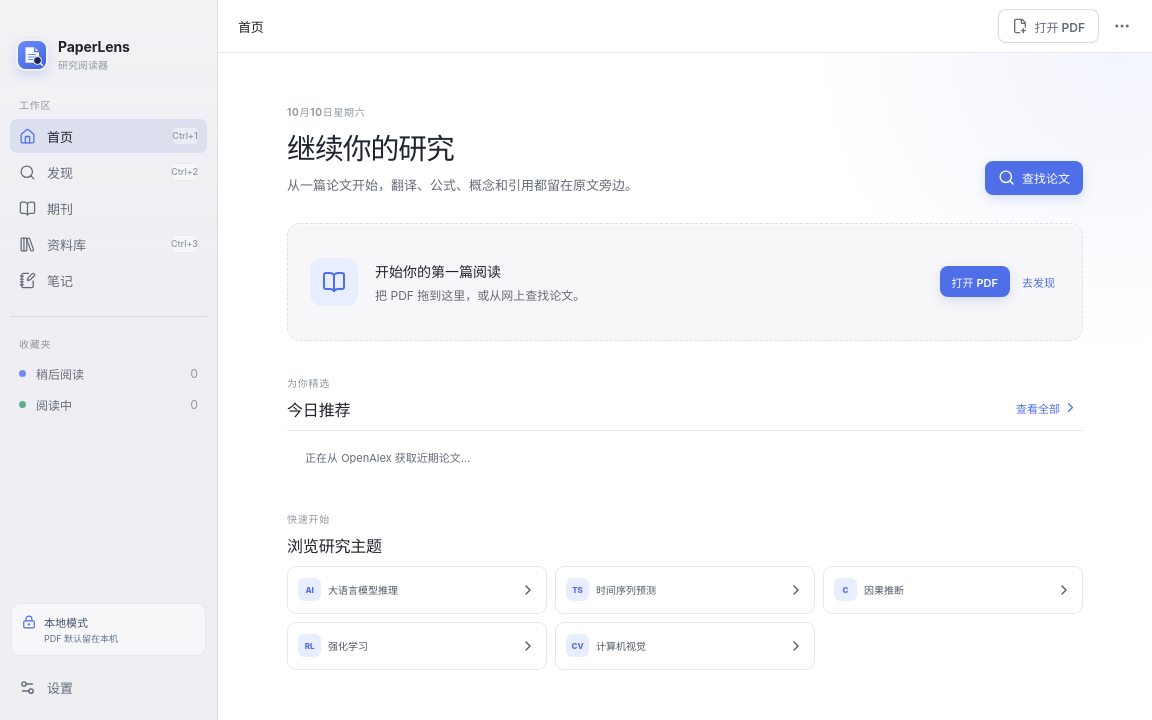
responsive paper search › allows a new query while searching, aborts the old request, and ignores stale progress
Click the button "发现 Ctrl+2" at (108, 172), box [10,155,207,189]
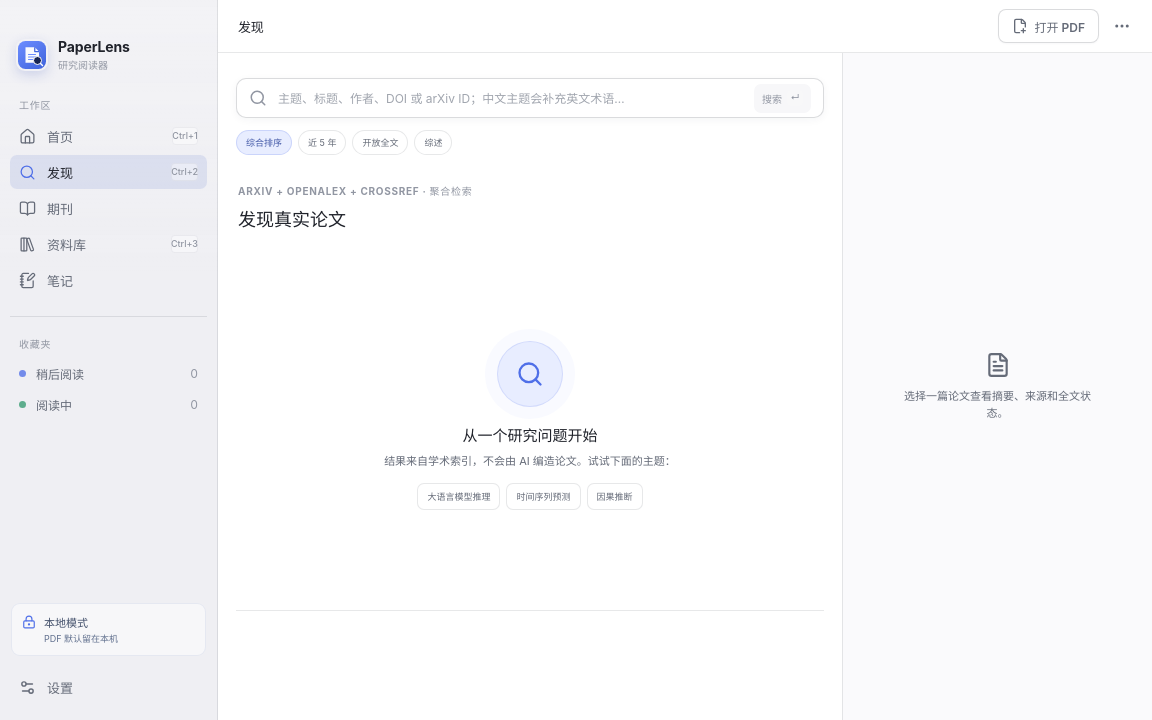
Type "old query" into the field named "搜索论文" at (510, 98), box [276,79,745,117]
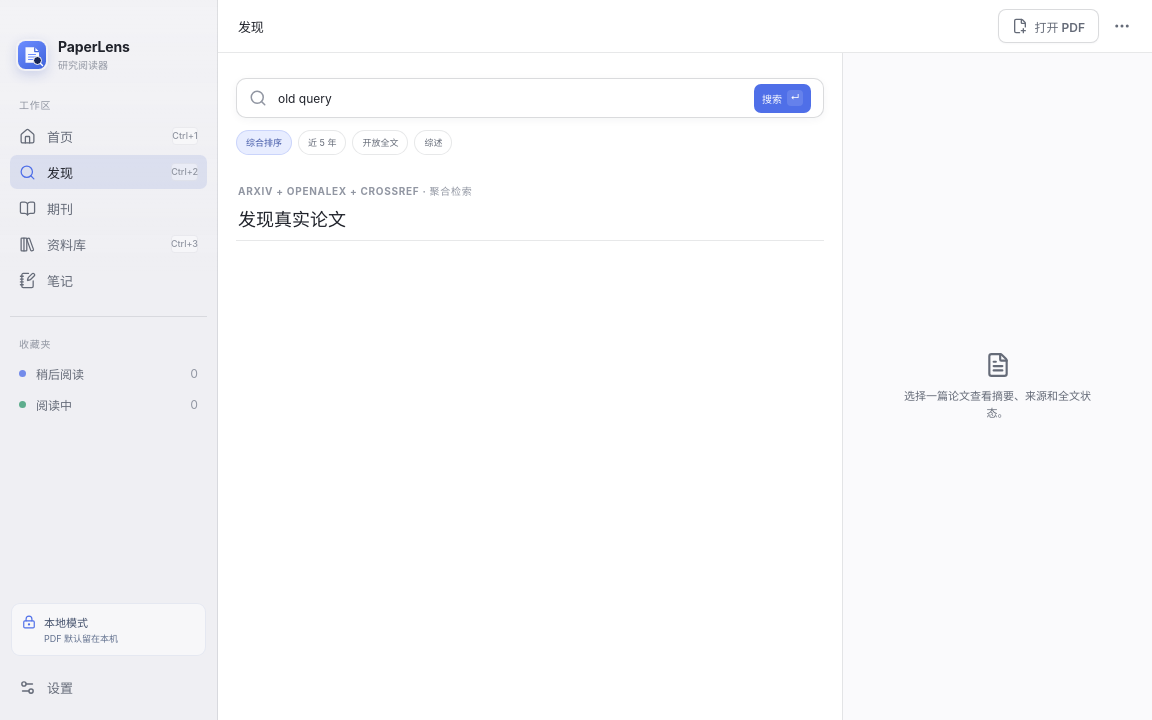
Click the button "搜索 ↵" at (782, 98), box [754,84,811,112]
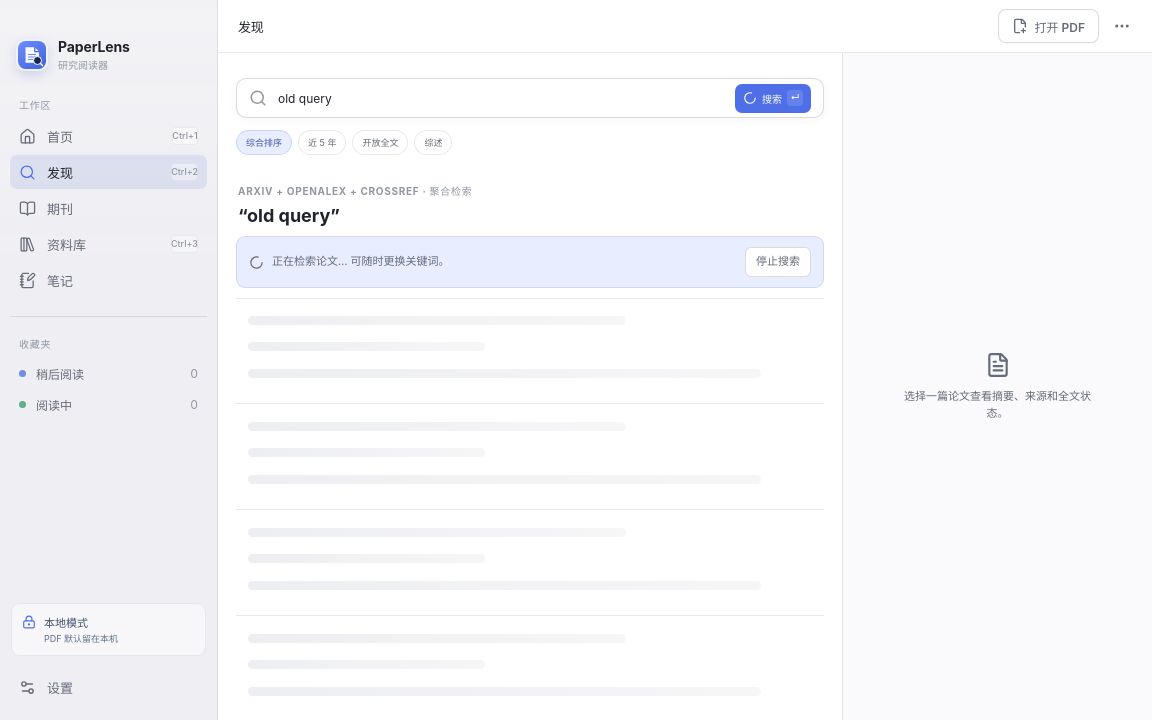
Replace the text in the field named "搜索论文" with "new query" at (501, 98), box [276,79,726,117]
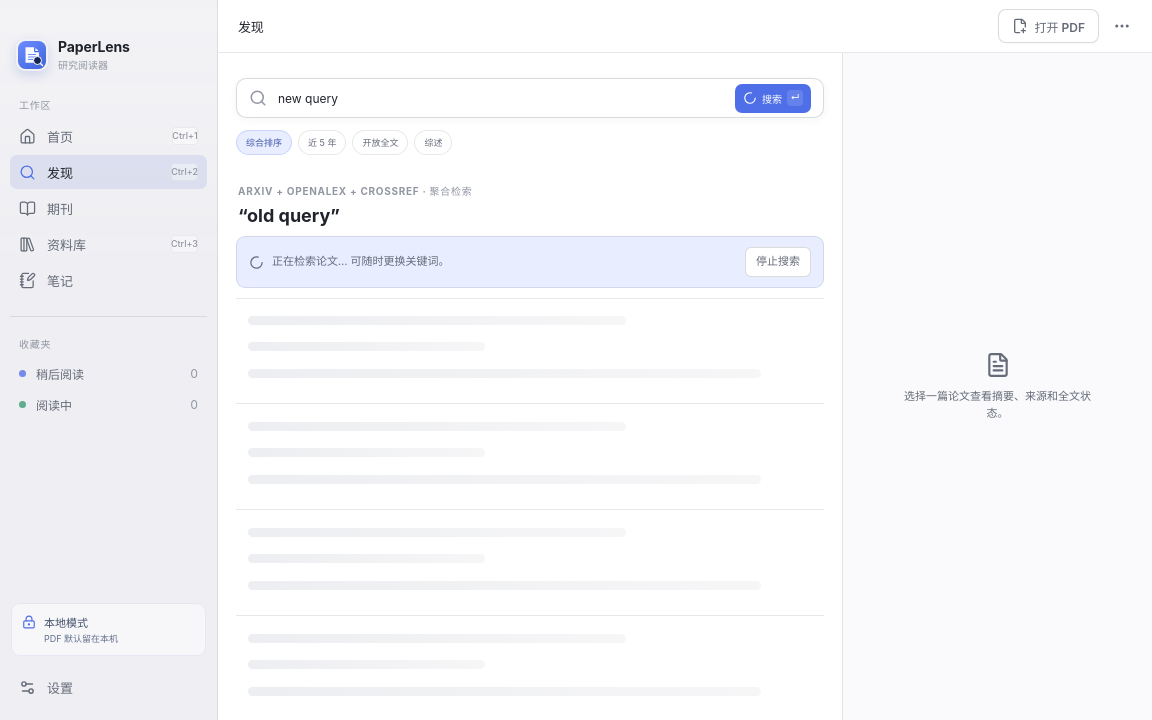
Click the button "搜索 ↵" at (773, 98), box [735,84,811,112]
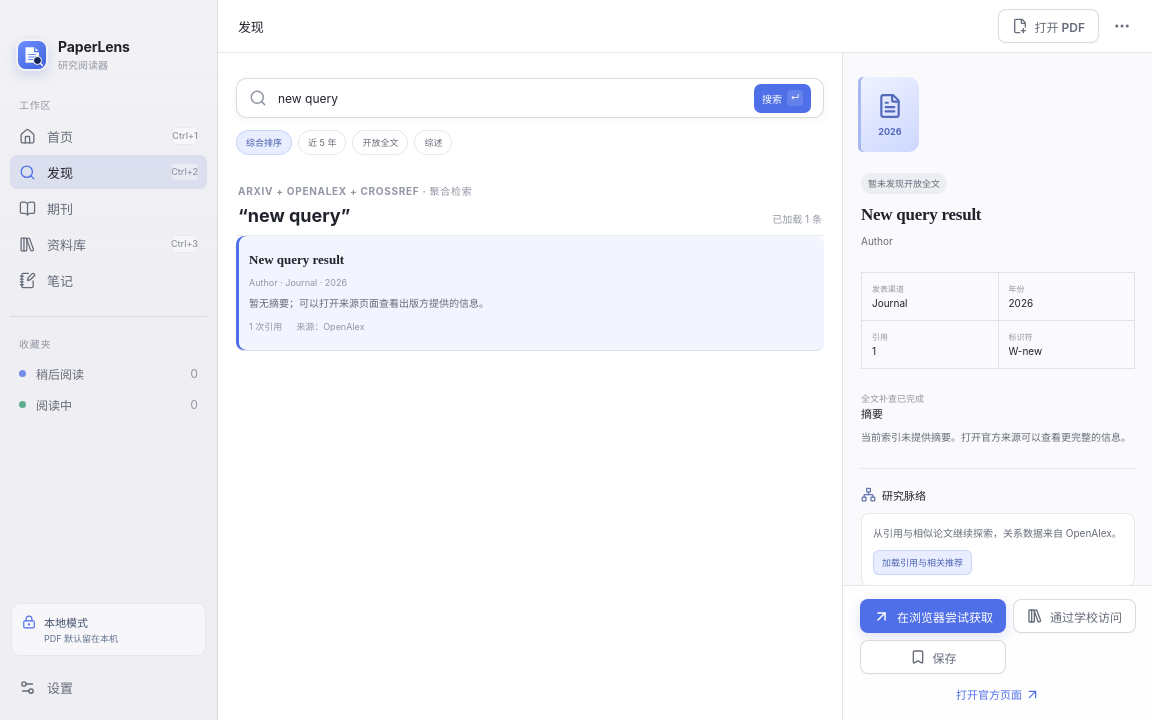
Now the heading "New query result" is shown, box [861,205,981,224]
